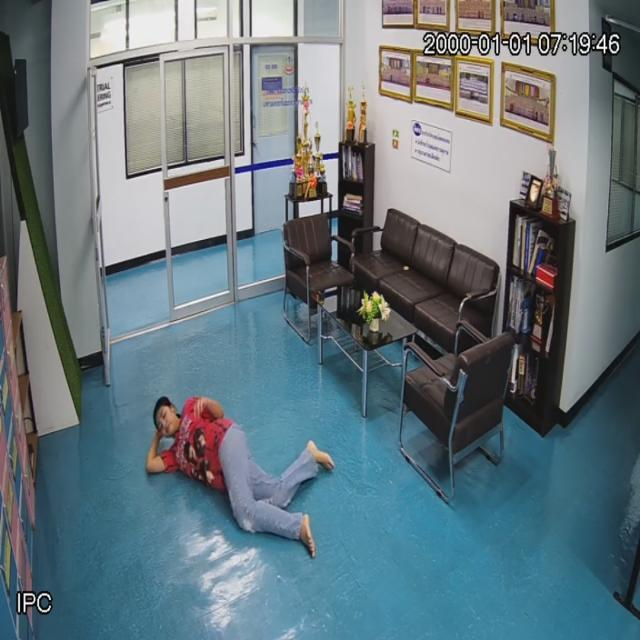fall: (147, 393, 315, 551)
